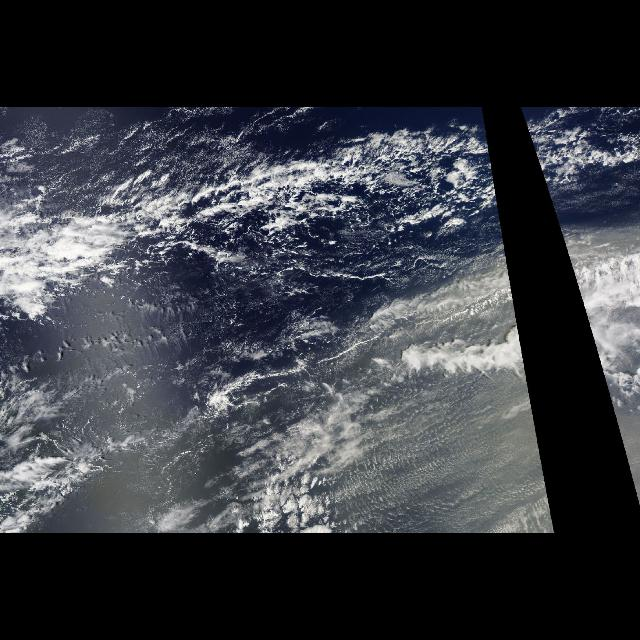Fish: (5, 138, 482, 316), (44, 419, 208, 509)
Gravel: (67, 248, 487, 534)
Sugar: (344, 325, 546, 533)
